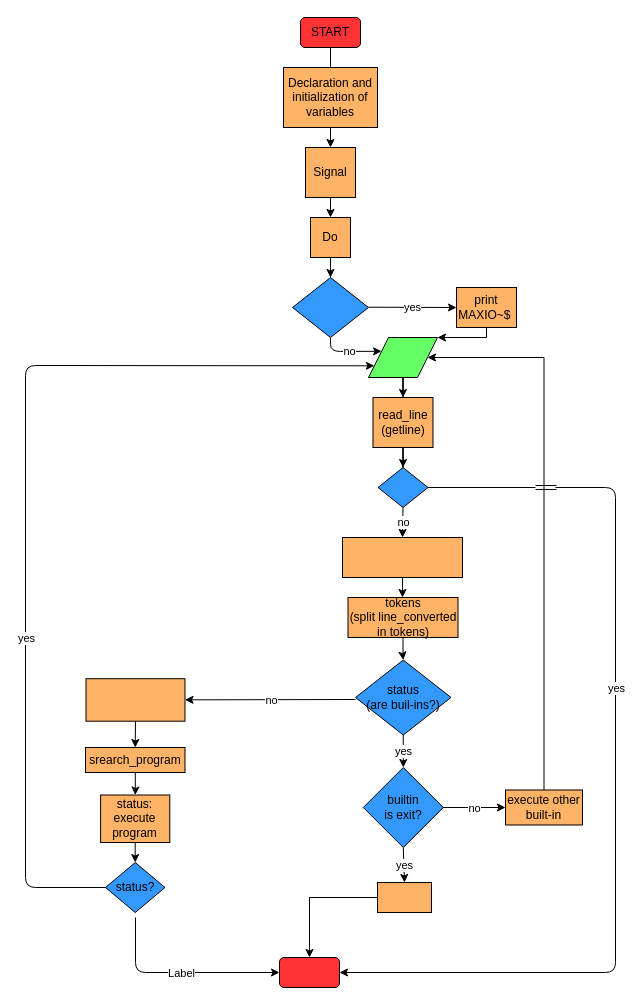
The diagram is 642 pixels wide and 1005 high, and some of its shapes have lost their labels. Here are the shapes that lost their labels. From the top down, the box of each, then its label:
(292, 276, 368, 338): Interactive
(368, 336, 438, 378): imput
(377, 466, 428, 508): EOF
(342, 536, 462, 578): line_converted (Change of '\n' to '\0')
(85, 678, 185, 721): path_command (get environment variable)
(376, 882, 432, 912): execute exit
(278, 956, 340, 988): END
